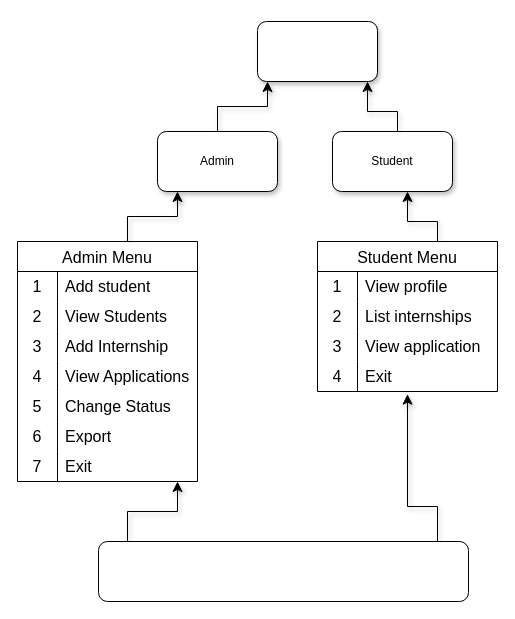
Some shapes in this 515 by 619 pixel diagram are drawn without their labels. Each missing label, with the centre of its shape:
"Any Exit -> Close DB Connection -> End program" goes at point 283,571.
"Start" goes at point 318,52.
